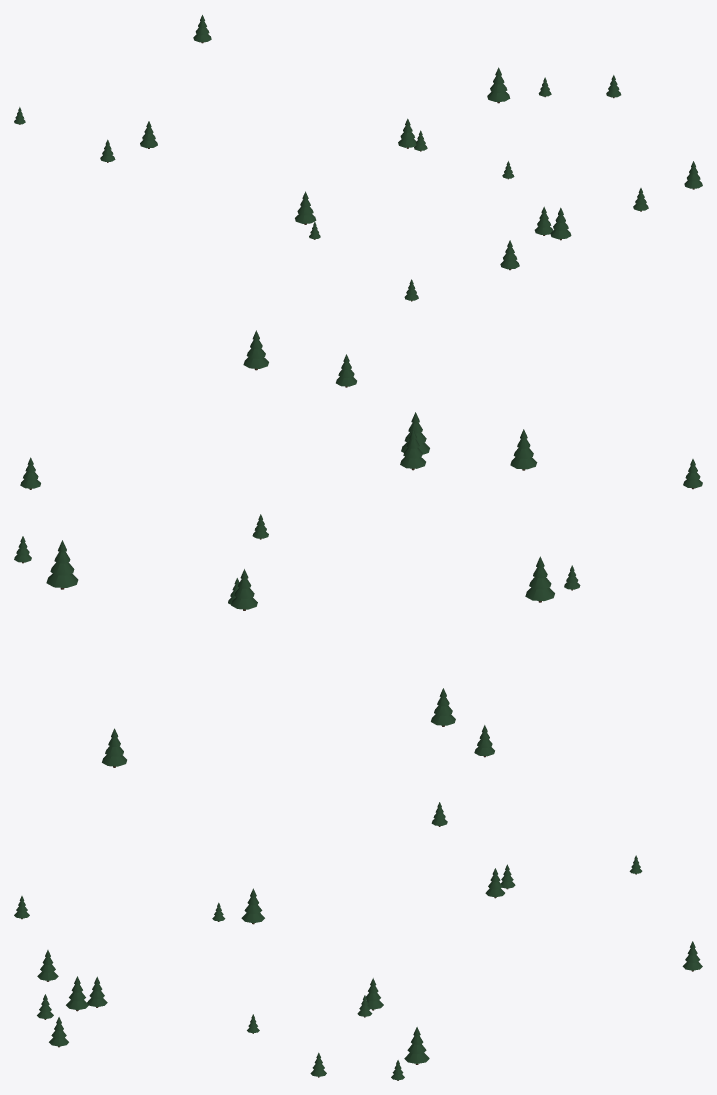
Rendered from forest.glb.
3 views of the same model, one above another, from view 1: azimuth 30°, elevation 25°; view 2: azimuth 150°, elevation 25°; view 3: azimuth 270°, elevation 25° (orthographic). The views are drawn at different scales.
Visible parts, largest first — view 1: forest; view 2: forest; view 3: forest.
Boxes of the visible parts, x1,y1,x2,y2 form: forest: (14,15,702,301); forest: (14,330,702,826); forest: (14,855,702,1080).
Bounding box in the file's own units: 294 × 39.3 × 359.
